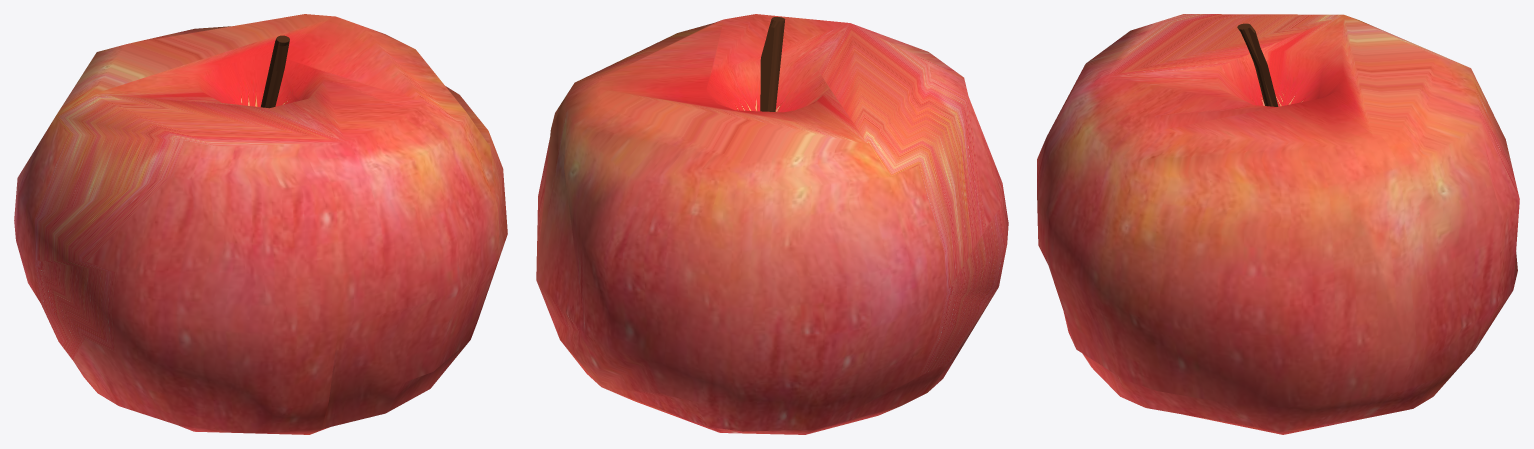
The model's file is apple.fbx.
3 renders of one model, left to right at view 1: azimuth 30°, elevation 25°; view 2: azimuth 150°, elevation 25°; view 3: azimuth 270°, elevation 25°, orthographic. The views are drawn at different scales.
Parts seen in each view (by area): view 1: Sphere; view 2: Sphere; view 3: Sphere.
Boxes of the visible parts, box(x1,y1,x2,y2) form: Sphere: box(14, 14, 507, 434); Sphere: box(536, 14, 1008, 434); Sphere: box(1037, 14, 1519, 434).
Size of the model in its own units: 194 by 154 by 192.
